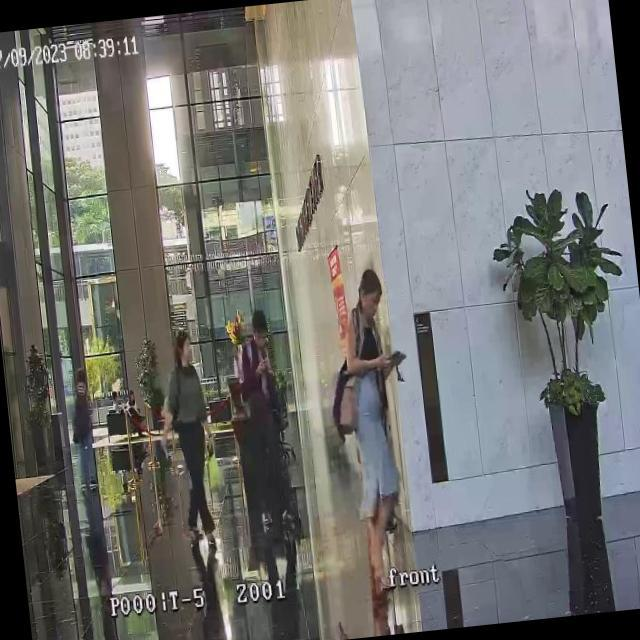person: (334, 265, 424, 598), (224, 306, 296, 527), (150, 327, 222, 544), (68, 366, 102, 490), (125, 386, 138, 414), (110, 389, 123, 414)
